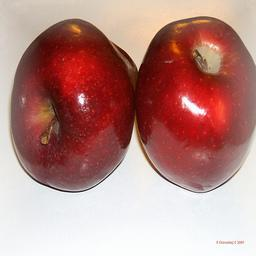apple: (12, 18, 138, 192), (138, 16, 255, 195)
